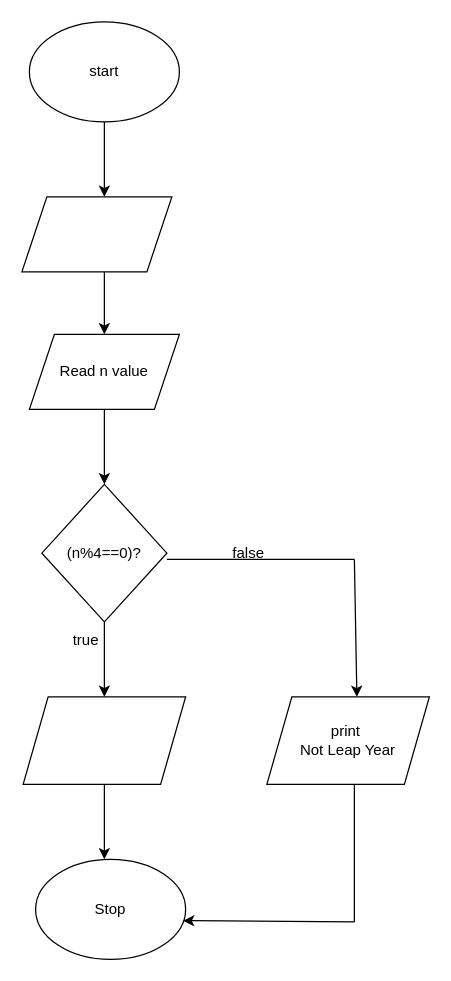
The diagram is 451 pixels wide and 981 high, and some of its shapes have lost their labels. Here are the shapes that lost their labels. From the top down, the centre of each, then its label:
[96,234]: Declare a variable as n
[104,740]: print Leap Year
